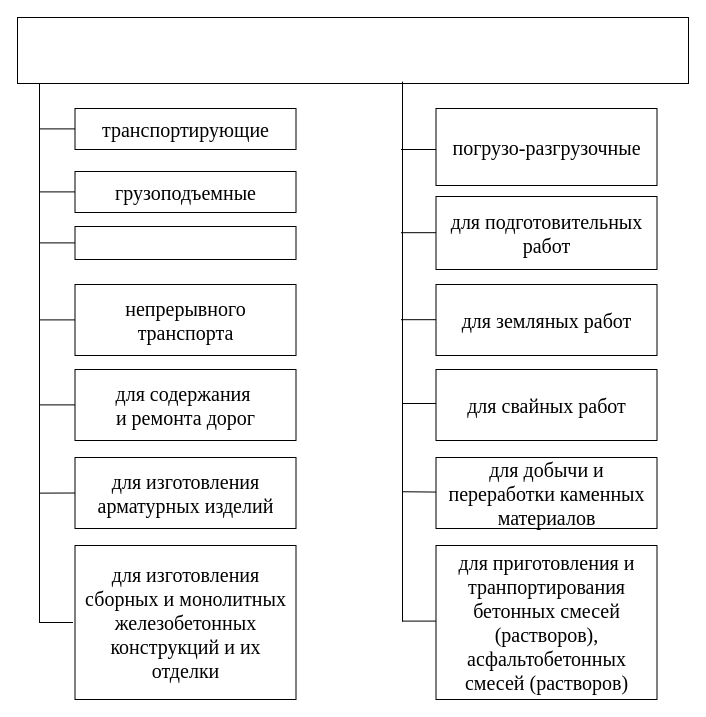
This 706x717 diagram has some shape labels left out. The centre of each missing label's shape, as x and y in pixels:
Группы НТТС: point 352,50
отделочные: point 185,243
